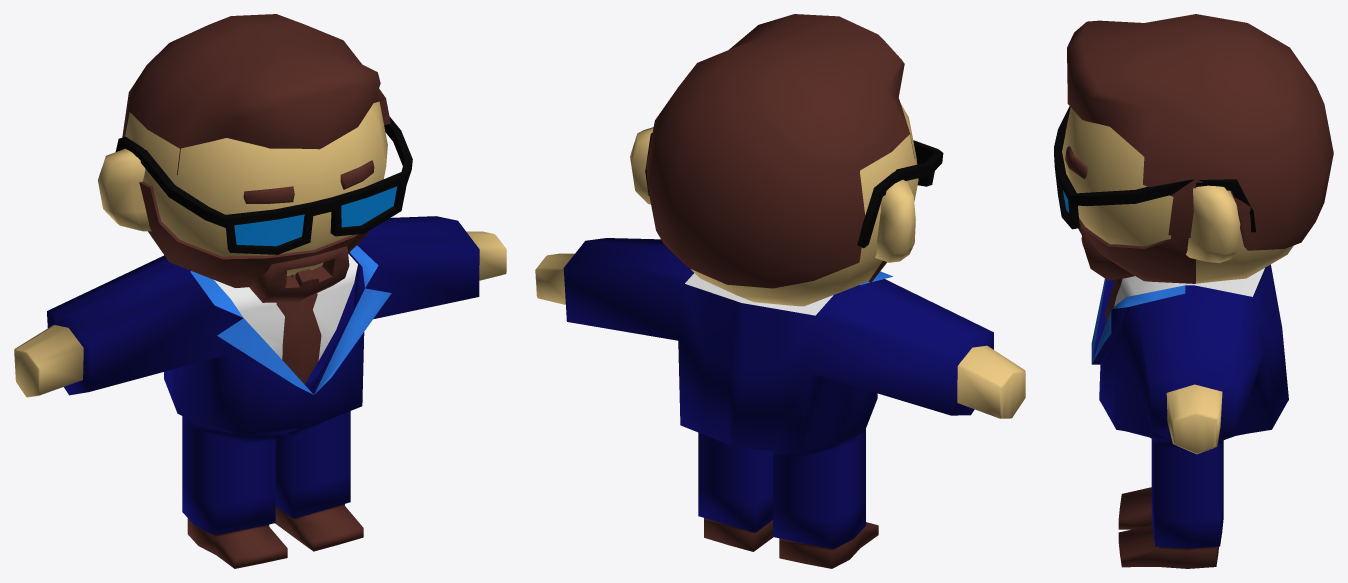
The model's file is ThePrincipal.fbx.
The picture shows the model from 3 angles, left to right: view 1: azimuth 30°, elevation 25°; view 2: azimuth 150°, elevation 25°; view 3: azimuth 270°, elevation 25°; orthographic projection.
Parts seen in each view (by area): view 1: avatar; view 2: avatar; view 3: avatar.
Part boxes in pixels (x1,y1,x2,y2): avatar: (14,14,506,568); avatar: (535,14,1025,568); avatar: (1054,14,1333,568).
Size of the model in its own units: 14159 by 14393 by 7218.
